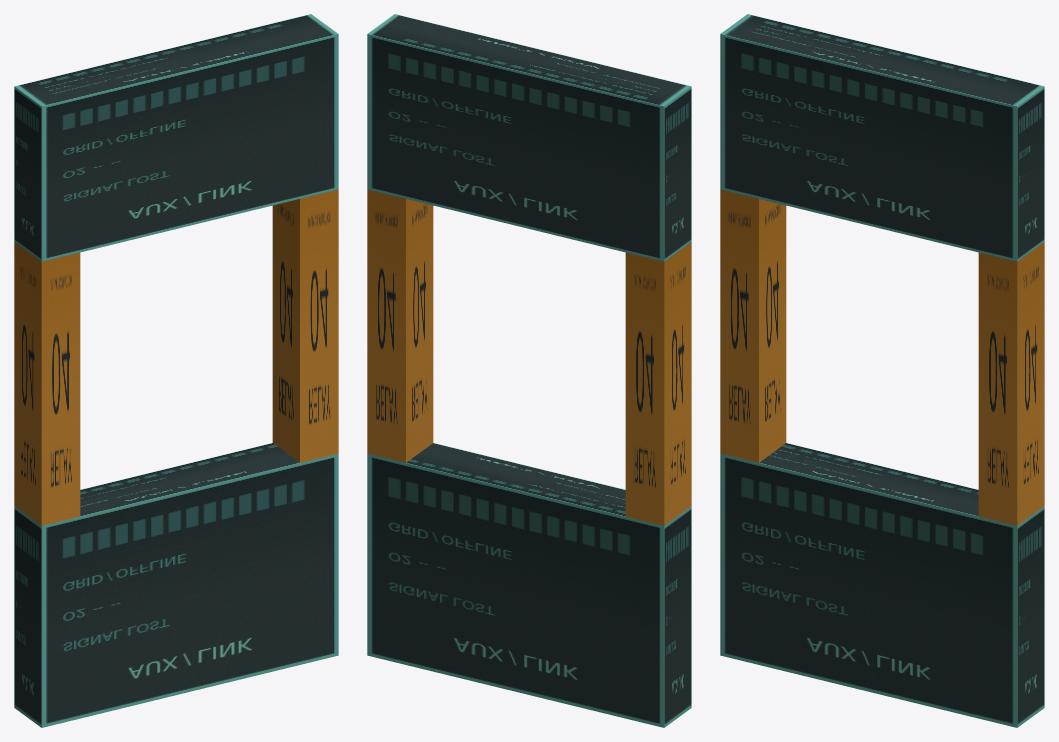
File: wall_window_2m_LOD3.obj
3 renders of one model, left to right at view 1: azimuth 30°, elevation 25°; view 2: azimuth 150°, elevation 25°; view 3: azimuth 330°, elevation 25°, orthographic.
Visible parts, largest first — view 1: L02_wall_window_2m_LOD3; view 2: L02_wall_window_2m_LOD3; view 3: L02_wall_window_2m_LOD3.
Part boxes in pixels (x1,y1,x2,y2): L02_wall_window_2m_LOD3: (14, 14, 338, 727); L02_wall_window_2m_LOD3: (367, 14, 691, 727); L02_wall_window_2m_LOD3: (720, 14, 1044, 727).
Size of the model in its own units: 2 by 4 by 0.32.
1 material, 1 textured.
